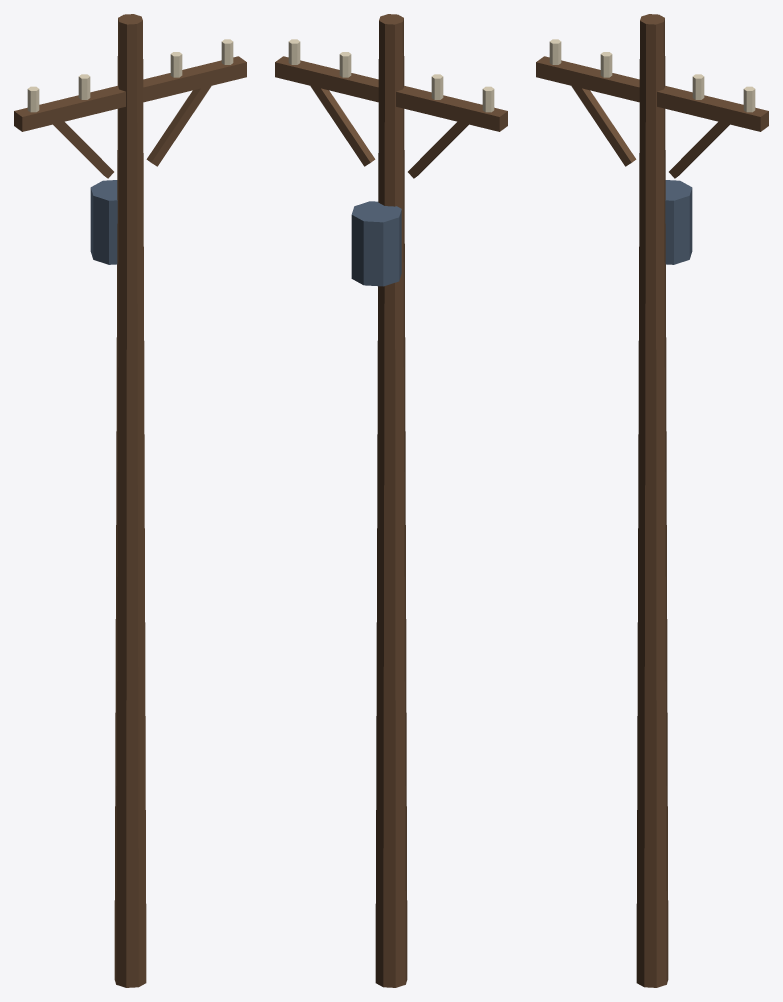
The model's file is power_pole.glb.
3 views of the same model, side by side, from view 1: azimuth 30°, elevation 25°; view 2: azimuth 150°, elevation 25°; view 3: azimuth 330°, elevation 25° (orthographic).
Parts seen in each view (by area): view 1: power_pole; view 2: power_pole; view 3: power_pole.
Part boxes in pixels (x1,y1,x2,y2): power_pole: (14,14,246,987); power_pole: (275,14,507,987); power_pole: (536,14,768,987).
Size of the model in its own units: 2.2 by 9 by 0.61.
